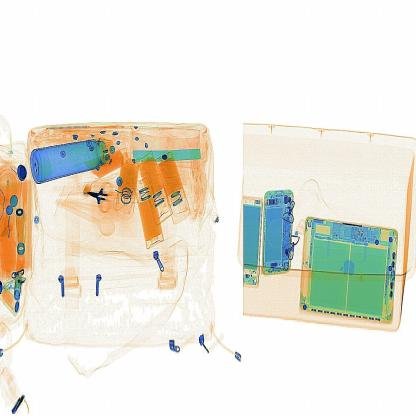gun: (80, 176, 122, 218)
